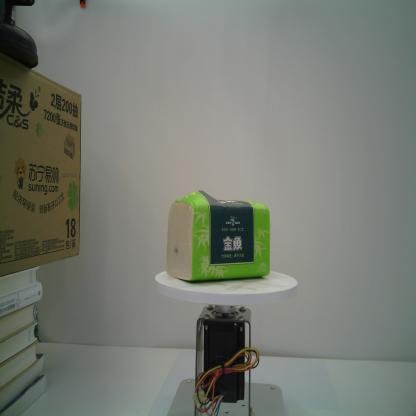Tissue: (164, 189, 273, 285)
